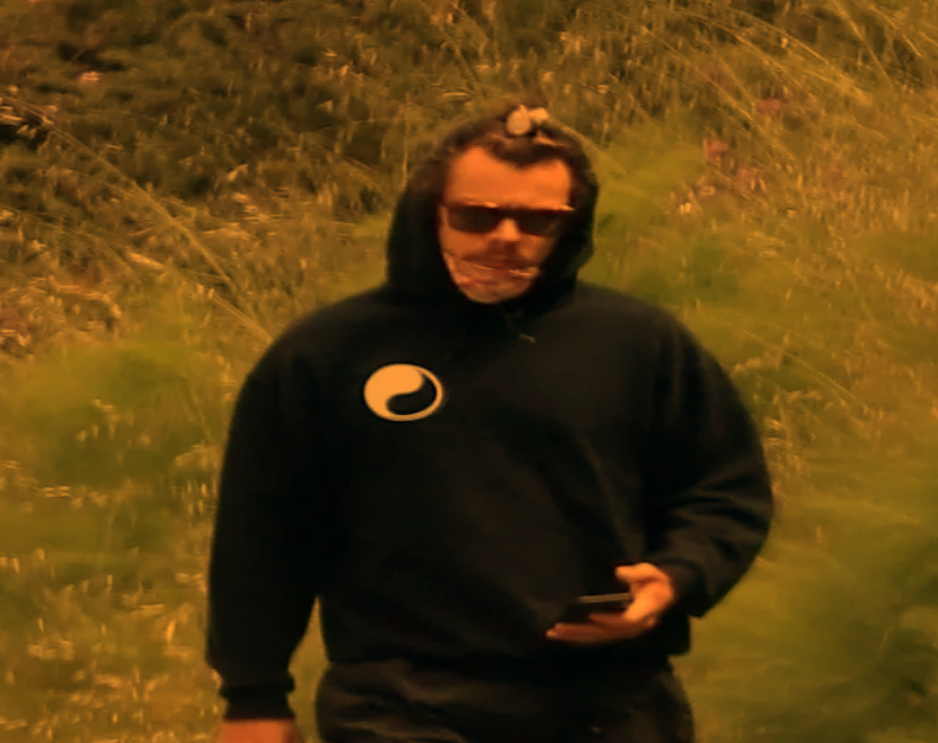mask_weared_incorrect: (410, 126, 597, 312)
